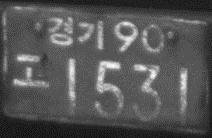0: (141, 22, 164, 55)
1: (166, 65, 199, 126), (56, 57, 88, 117)
3: (131, 62, 162, 122)
5: (92, 59, 124, 120)
9: (113, 19, 138, 52)
경기_O: (46, 15, 103, 50)
고: (12, 52, 50, 89)
